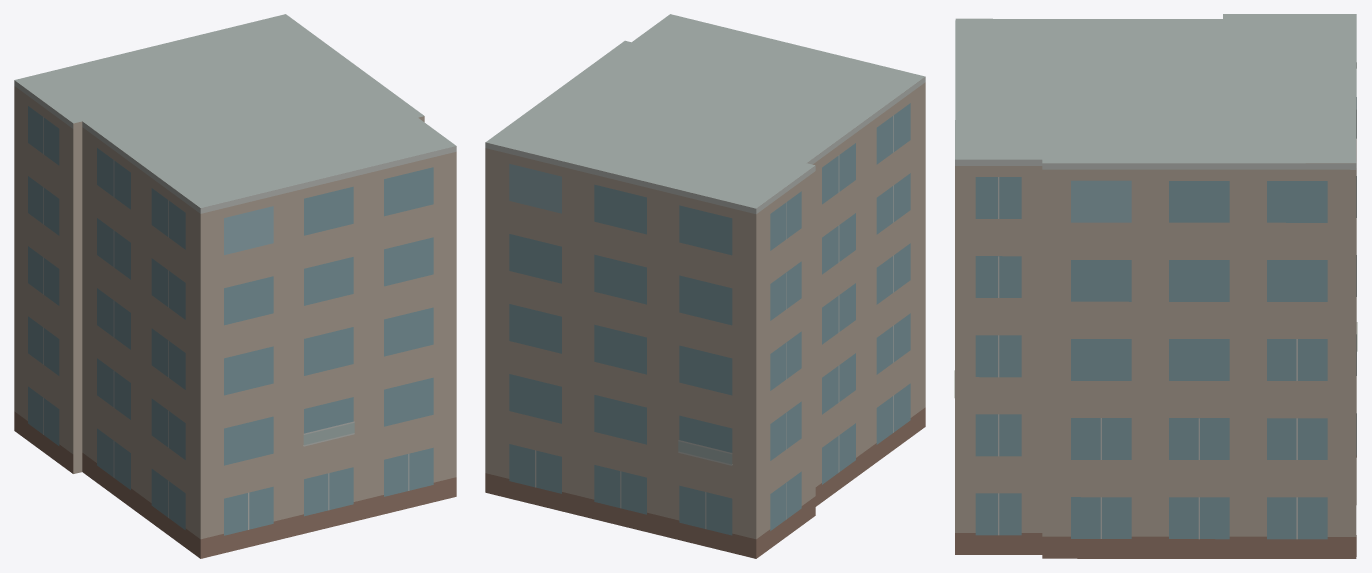
File: survey-upis-32976065.glb
3 views of the same model, side by side, from view 1: azimuth 30°, elevation 25°; view 2: azimuth 150°, elevation 25°; view 3: azimuth 270°, elevation 25° (orthographic). The views are drawn at different scales.
Visible parts, largest first — view 1: survey-upis-32976065.tmp; view 2: survey-upis-32976065.tmp; view 3: survey-upis-32976065.tmp.
Boxes of the visible parts, x1,y1,x2,y2 form: survey-upis-32976065.tmp: (14, 14, 456, 558); survey-upis-32976065.tmp: (485, 14, 925, 558); survey-upis-32976065.tmp: (954, 14, 1357, 558).
Size of the model in its own units: 12.21 by 15.05 by 13.93.
